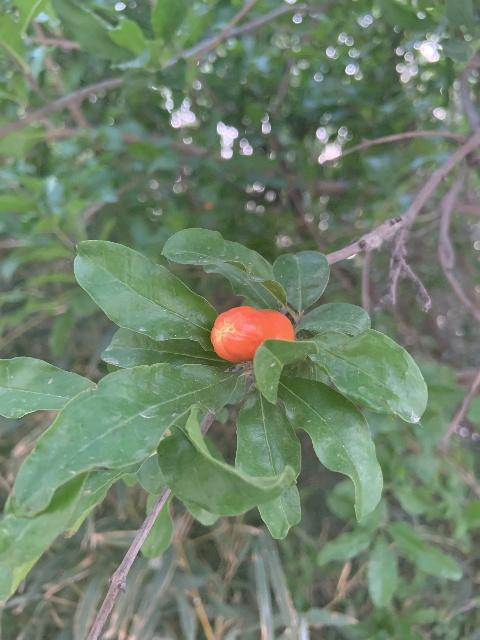bud: (210, 306, 293, 363)
